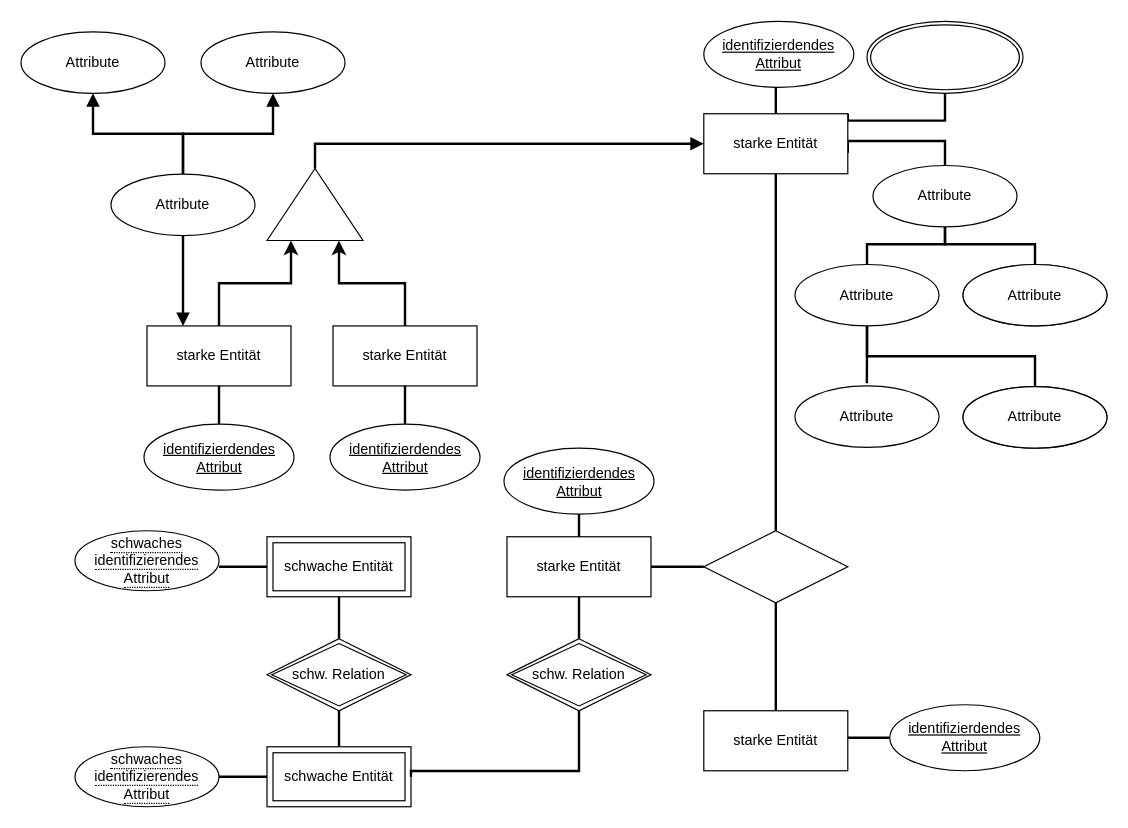
Image size: 1128x828. Some labels were removed from this diagram. Each missing label, with the centre of its shape:
"IsA" belongs at (x=314, y=203).
"Mehrwertiges Attribut" belongs at (x=944, y=56).
"Relationship" belongs at (x=775, y=566).
